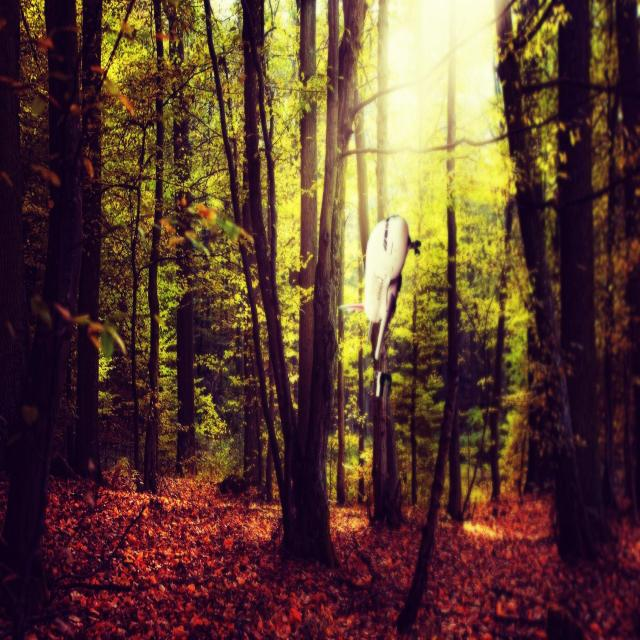airplane: (339, 215, 421, 398)
